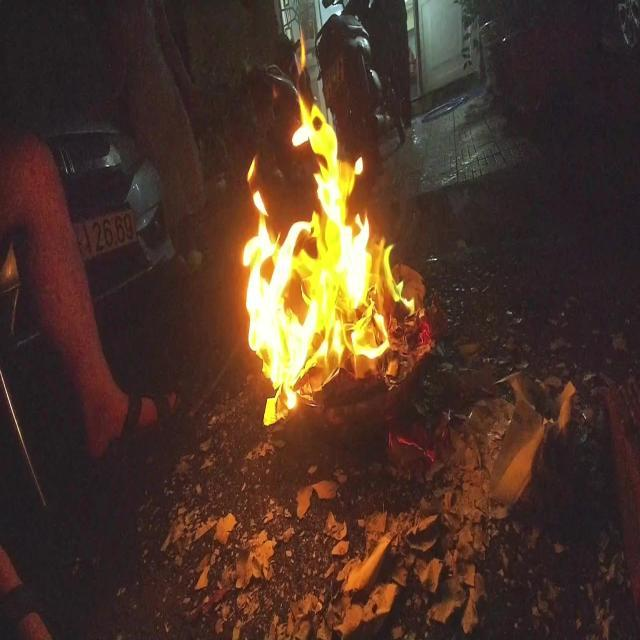Fire: (243, 26, 417, 412)
